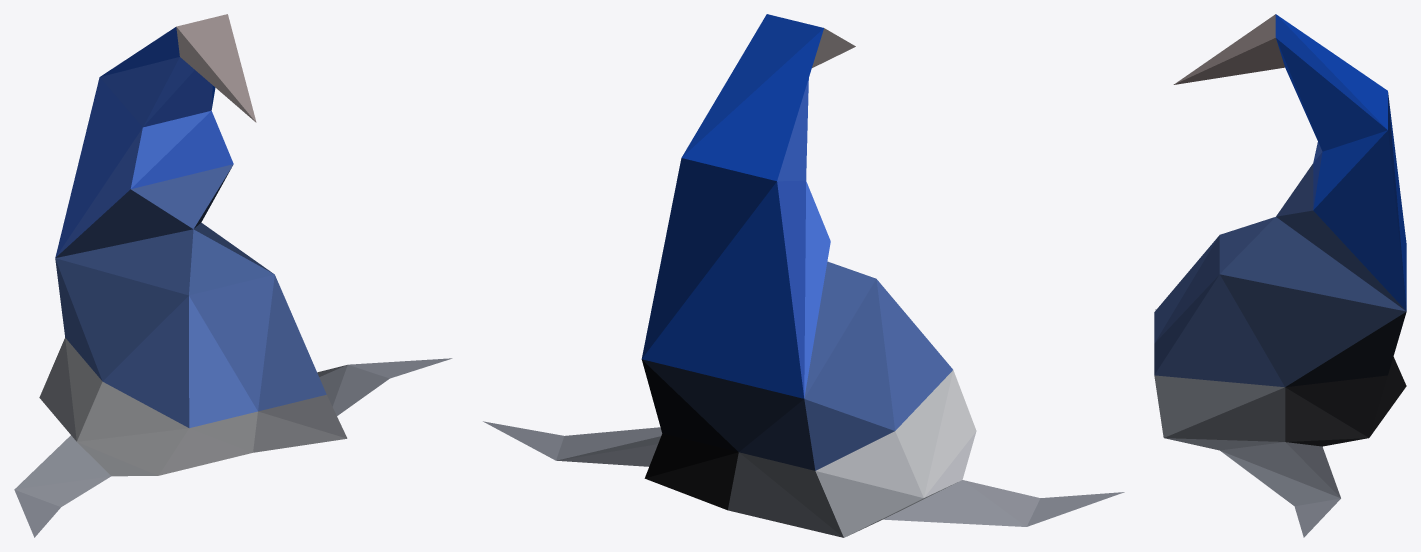
Rendered from mystic-hat.obj.
3 renders of one model, left to right at view 1: azimuth 30°, elevation 25°; view 2: azimuth 150°, elevation 25°; view 3: azimuth 270°, elevation 25°, orthographic. The views are drawn at different scales.
Parts seen in each view (by area): view 1: Item Mystic hat 2026-09-24_18-00-33; view 2: Item Mystic hat 2026-09-24_18-00-33; view 3: Item Mystic hat 2026-09-24_18-00-33.
Part boxes in pixels (bbox=[...]): Item Mystic hat 2026-09-24_18-00-33: bbox=[14, 14, 452, 537]; Item Mystic hat 2026-09-24_18-00-33: bbox=[483, 14, 1124, 537]; Item Mystic hat 2026-09-24_18-00-33: bbox=[1154, 14, 1406, 537].
Size of the model in its own units: 58 by 46 by 27.
